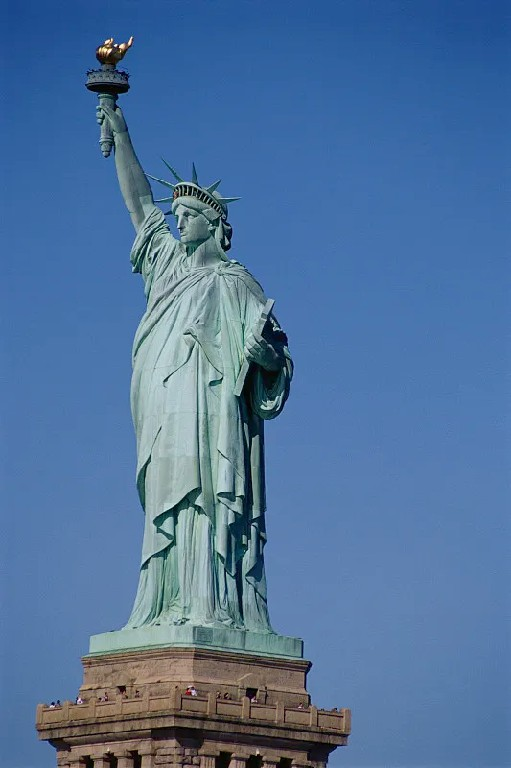SL: (36, 35, 352, 768)
